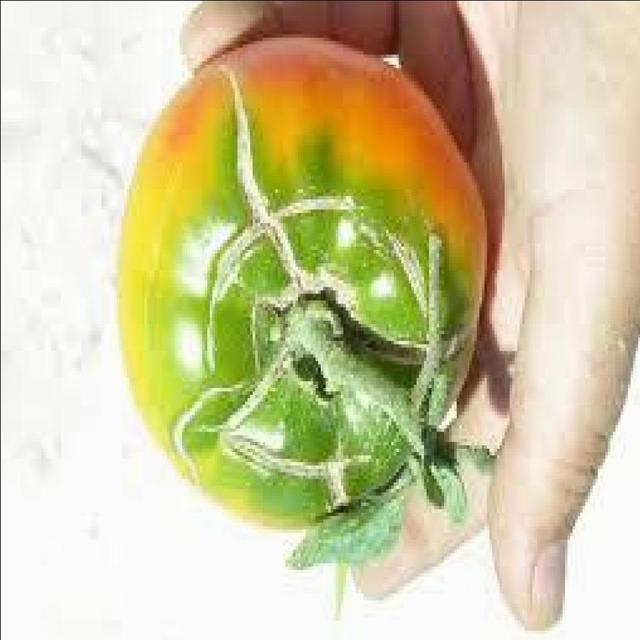Cracking Fruit: (81, 104, 221, 294)
